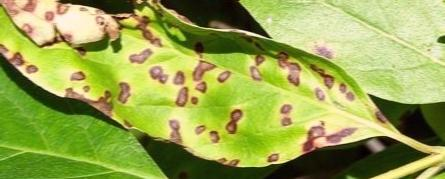Tomato leaf bacterial spot: (0, 0, 404, 176), (201, 0, 445, 103)
